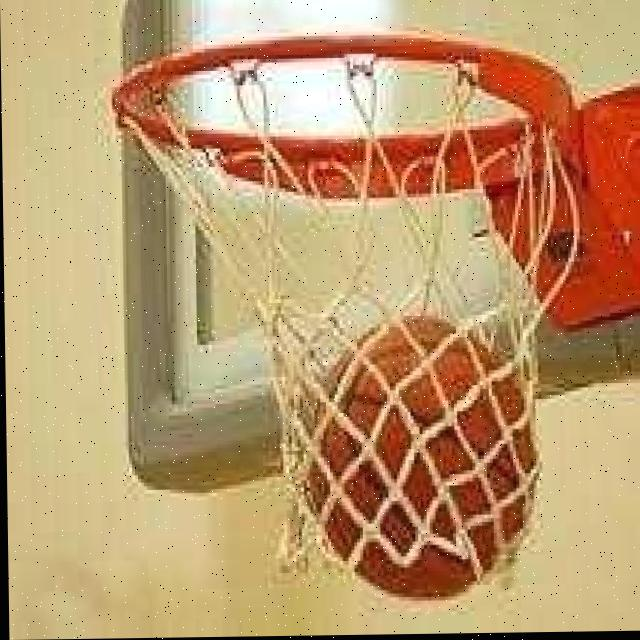Goal: (308, 315, 542, 604)
